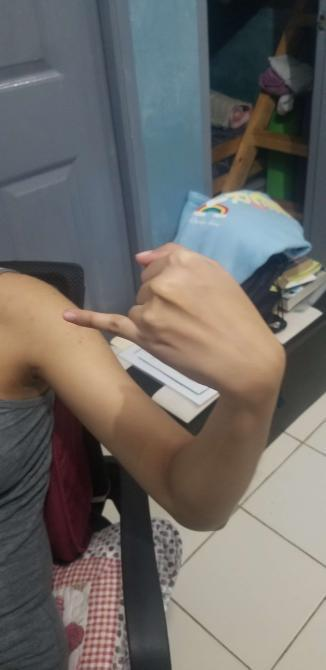j: (65, 242, 289, 393)
